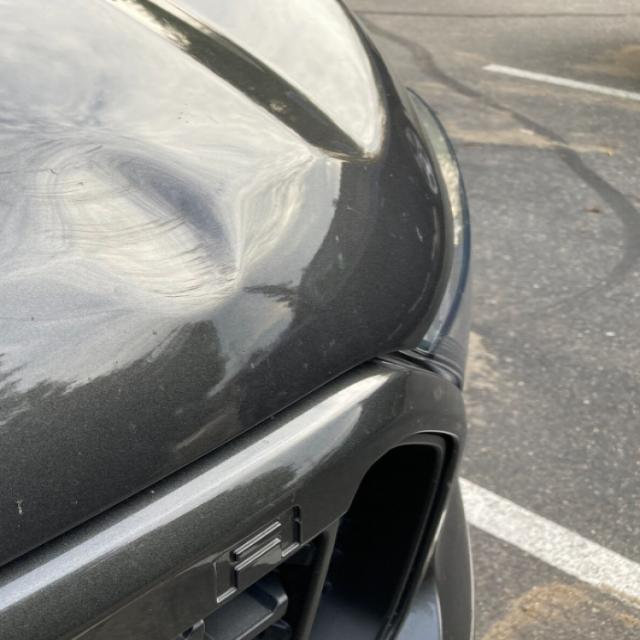dents: (31, 144, 262, 310)
